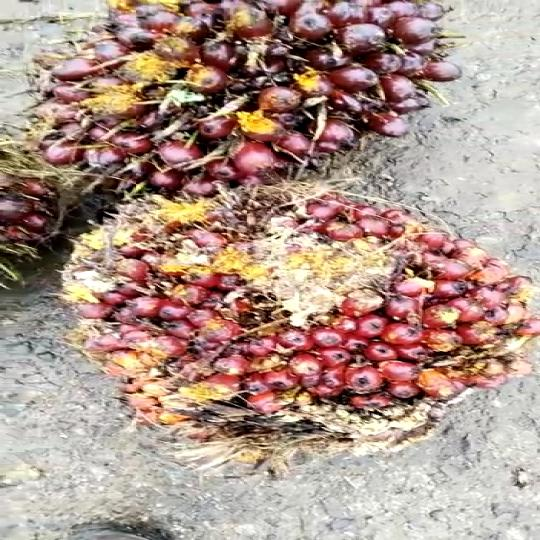masak: (46, 173, 540, 444), (31, 0, 449, 181)
